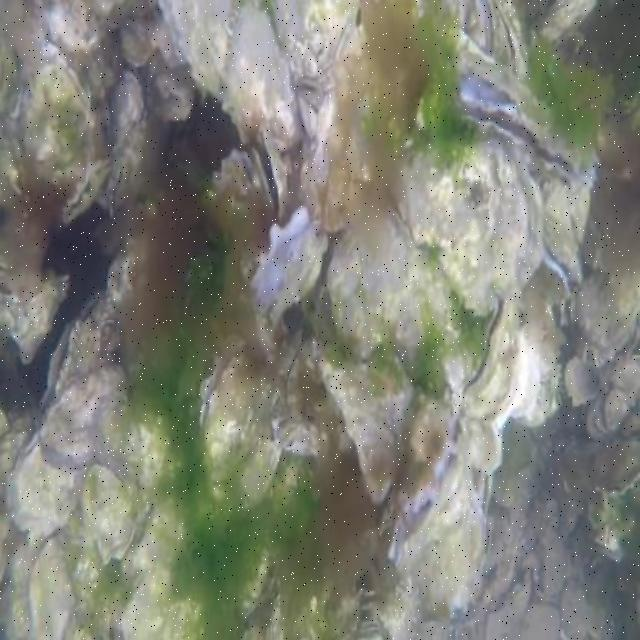Oyster-Closed: (405, 139, 548, 306), (331, 200, 452, 377), (9, 358, 125, 540), (320, 349, 411, 503), (407, 459, 485, 611), (226, 10, 301, 146), (201, 341, 267, 485), (85, 466, 137, 562), (28, 535, 74, 638), (126, 496, 188, 572), (111, 70, 144, 146), (464, 415, 502, 474), (327, 243, 359, 302), (466, 0, 496, 53), (478, 474, 491, 555), (604, 388, 630, 427)
Oyster-Open: (449, 53, 600, 194), (387, 393, 462, 565), (18, 45, 102, 193), (158, 0, 265, 98), (39, 288, 115, 408), (254, 208, 324, 324), (461, 292, 522, 420), (571, 261, 638, 366), (250, 124, 291, 229), (62, 157, 111, 222), (544, 215, 583, 295), (210, 148, 257, 198), (495, 0, 520, 70)
